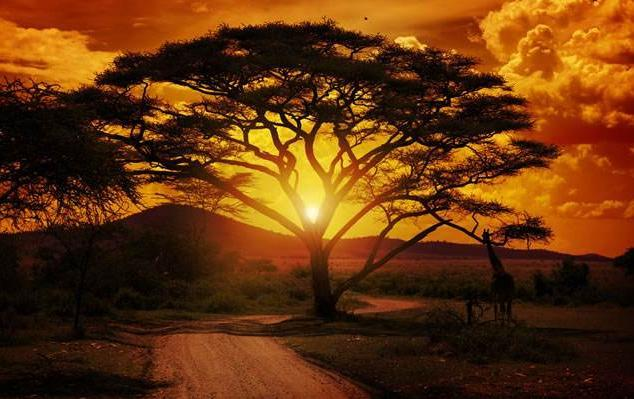animal: (462, 222, 543, 334)
